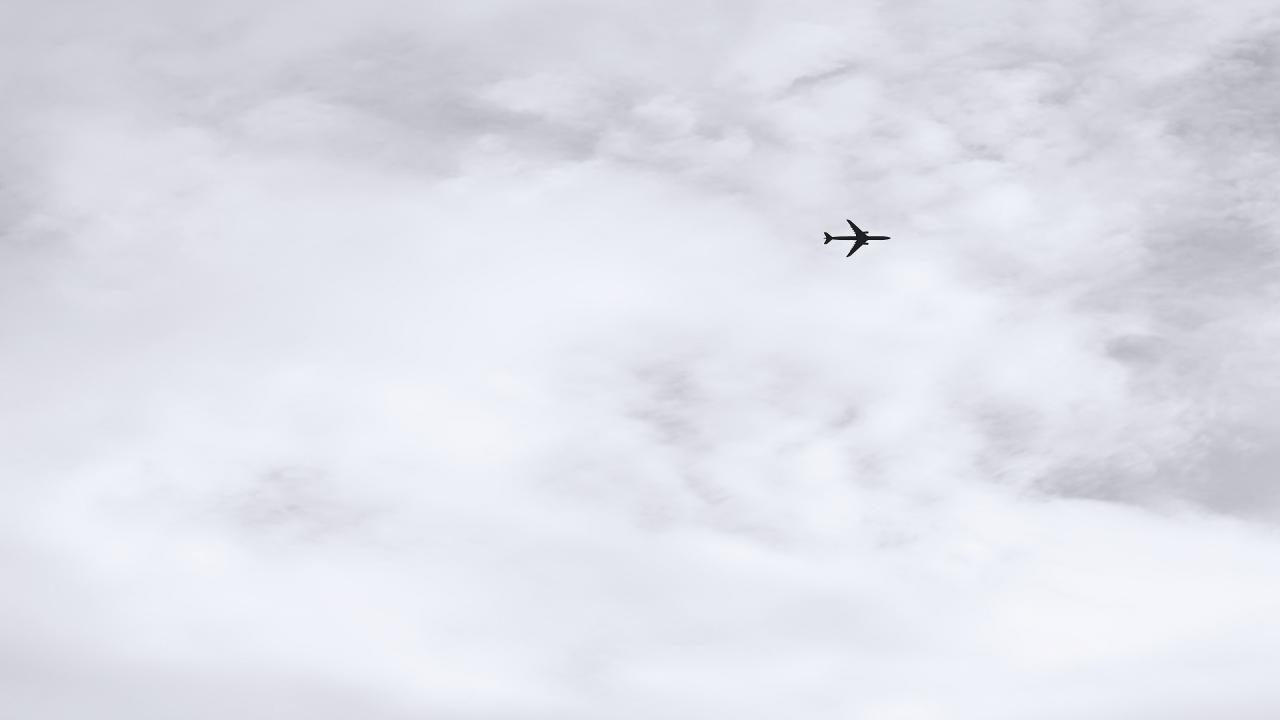Airplane: (808, 210, 902, 262)
